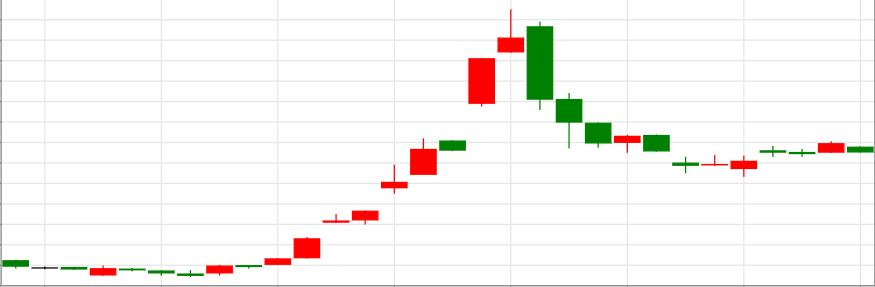bearish_engulfing_fall: (177, 9, 553, 278)
